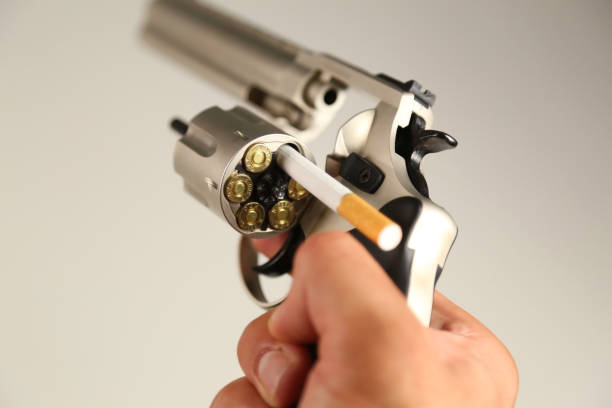cigarette: (276, 143, 406, 254)
gun: (138, 0, 460, 330)
